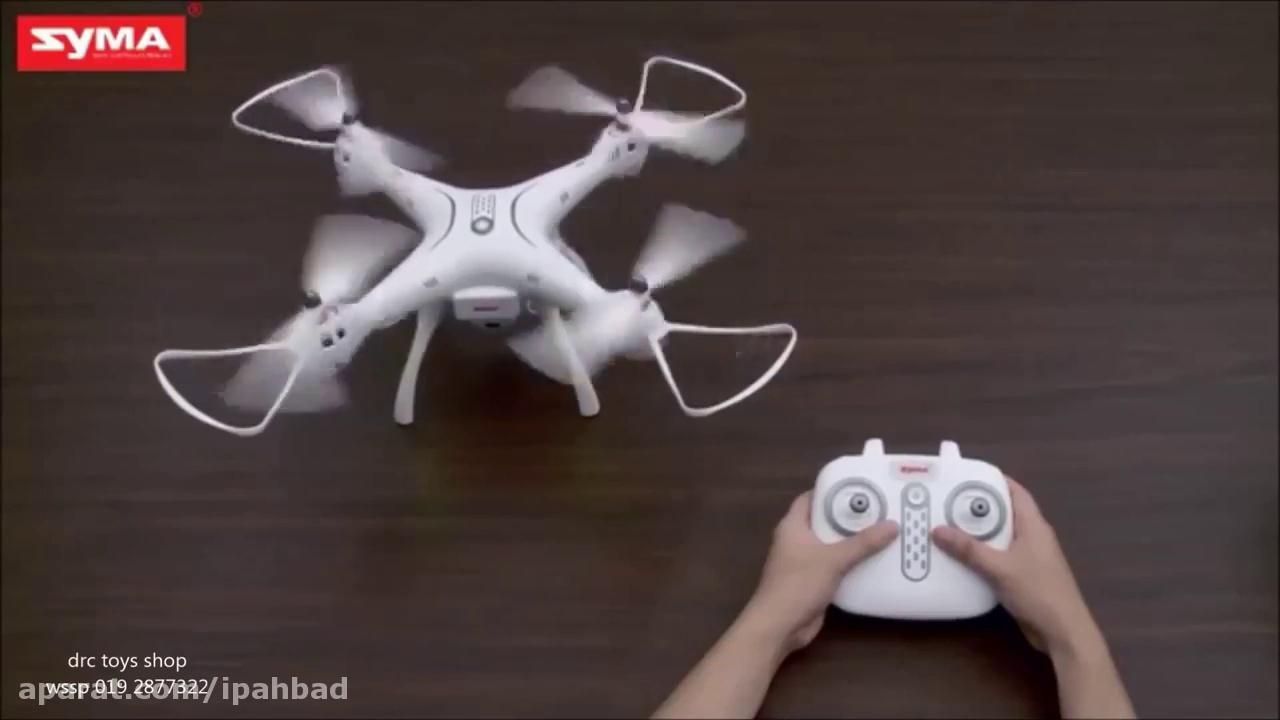drone: (150, 48, 801, 442)
